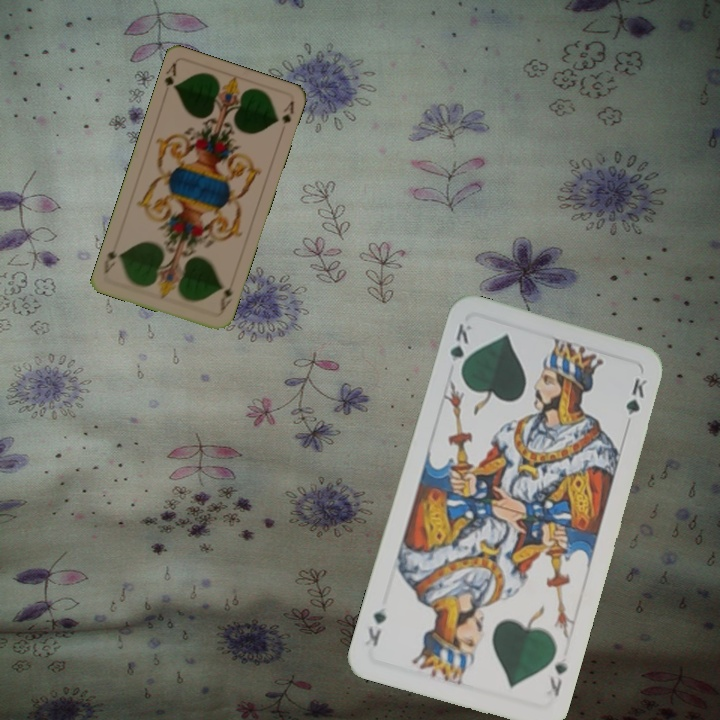GA: (216, 277, 236, 316), (161, 59, 179, 92)
GK: (445, 319, 474, 377), (546, 653, 570, 699)
